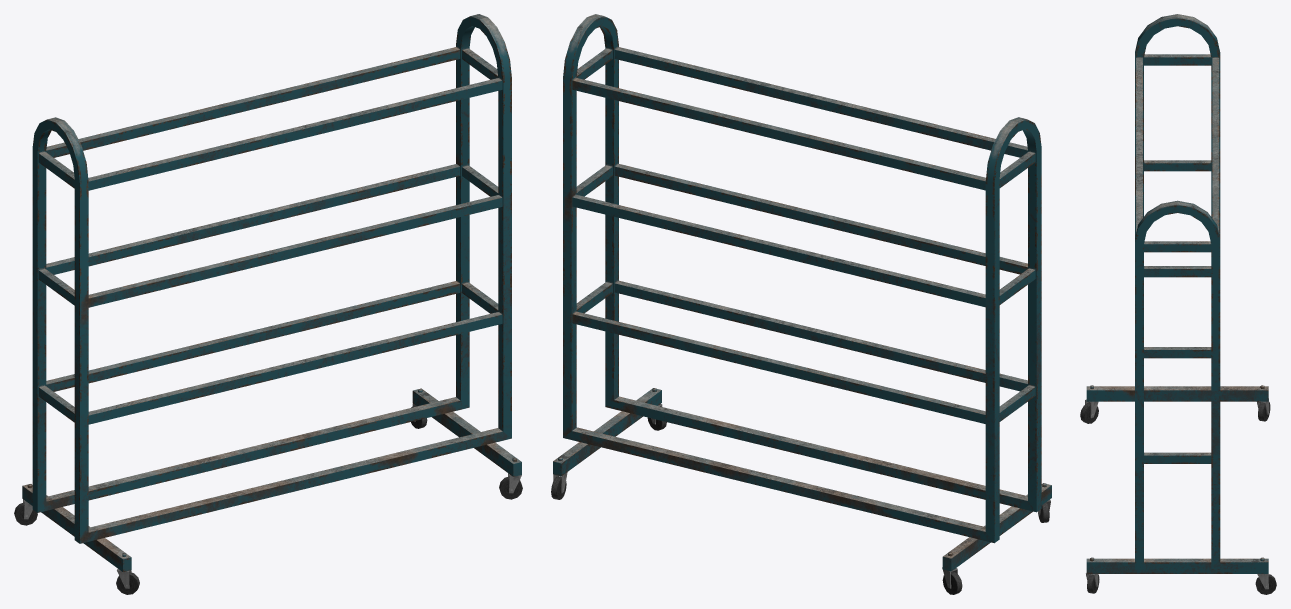
Rendered from BallRacks.FBX.
3 renders of one model, left to right at view 1: azimuth 30°, elevation 25°; view 2: azimuth 150°, elevation 25°; view 3: azimuth 270°, elevation 25°, orthographic. The views are drawn at different scales.
Parts seen in each view (by area): view 1: BallRacks; view 2: BallRacks; view 3: BallRacks.
Boxes of the visible parts, x1,y1,x2,y2 form: BallRacks: (14,14,522,594); BallRacks: (551,14,1051,594); BallRacks: (1080,14,1276,594).
Size of the model in its own units: 124 by 121 by 54.07.
